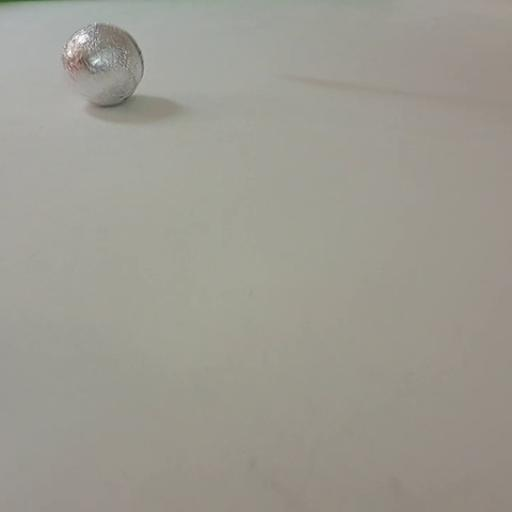alive: (60, 22, 145, 106)
